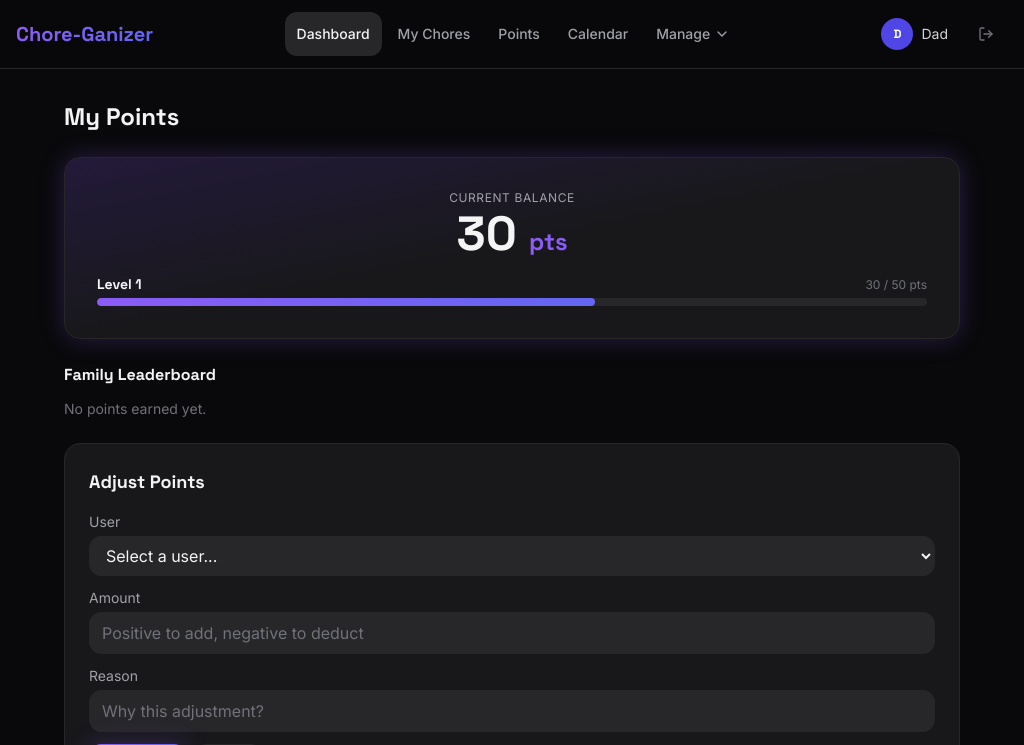
Test case: PointsPage › shows validation error on zero amount
Select "Alice (CHILD)" in the dropdown labelled "User": (512,556) left=89, top=536, right=935, bottom=576
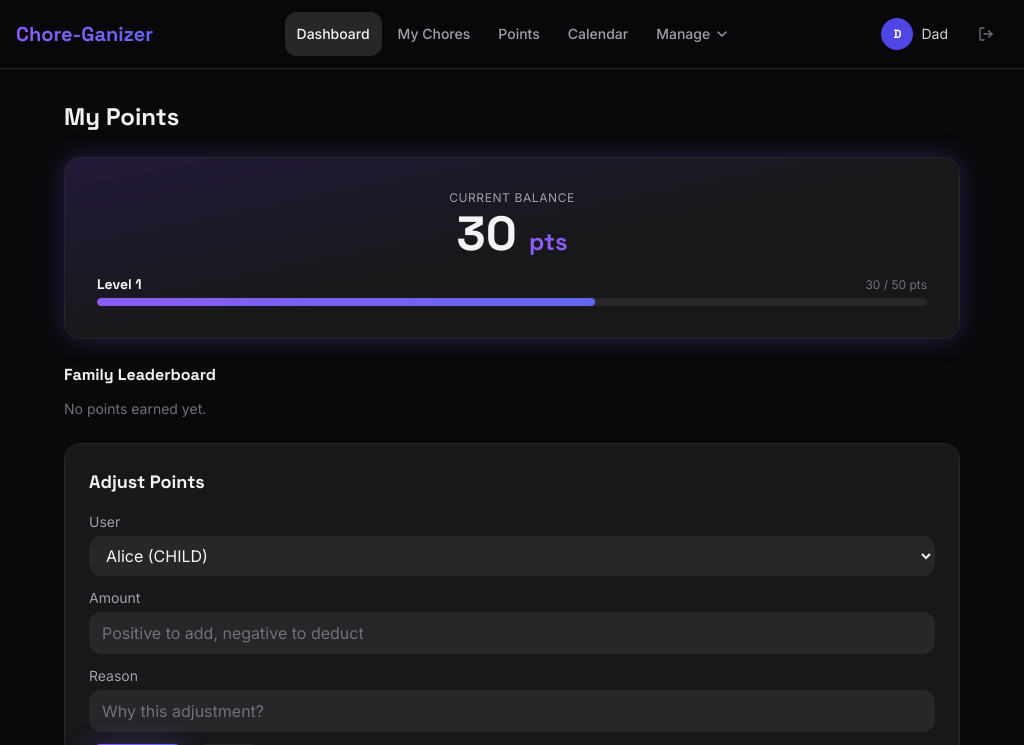
In the number field labelled "Amount": (512,633) left=89, top=612, right=935, bottom=654, type "0"
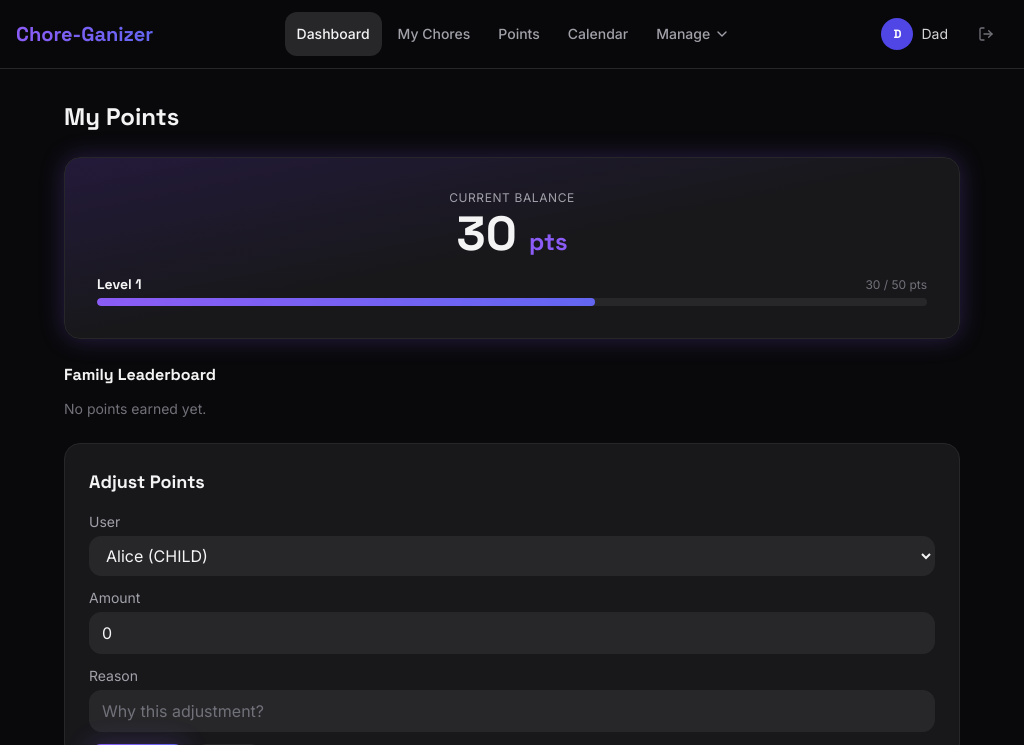
In the field labelled "Reason": (512,711) left=89, top=690, right=935, bottom=732, type "Test"
(page scrolled)
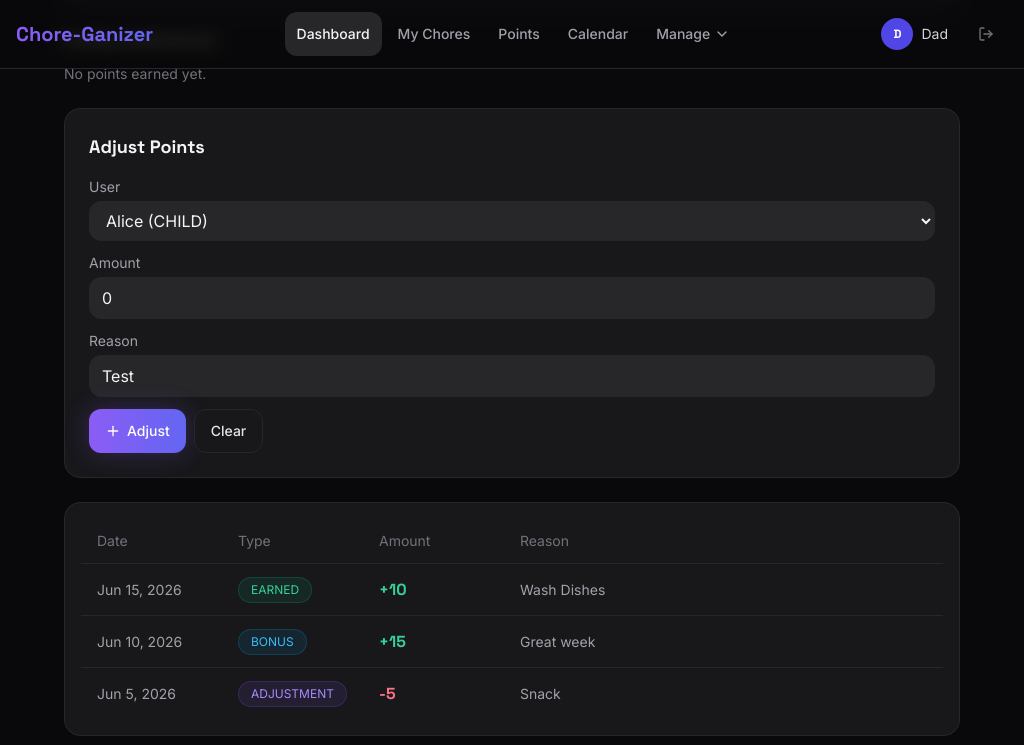
Click the button "Adjust": (137,431) left=89, top=409, right=186, bottom=453
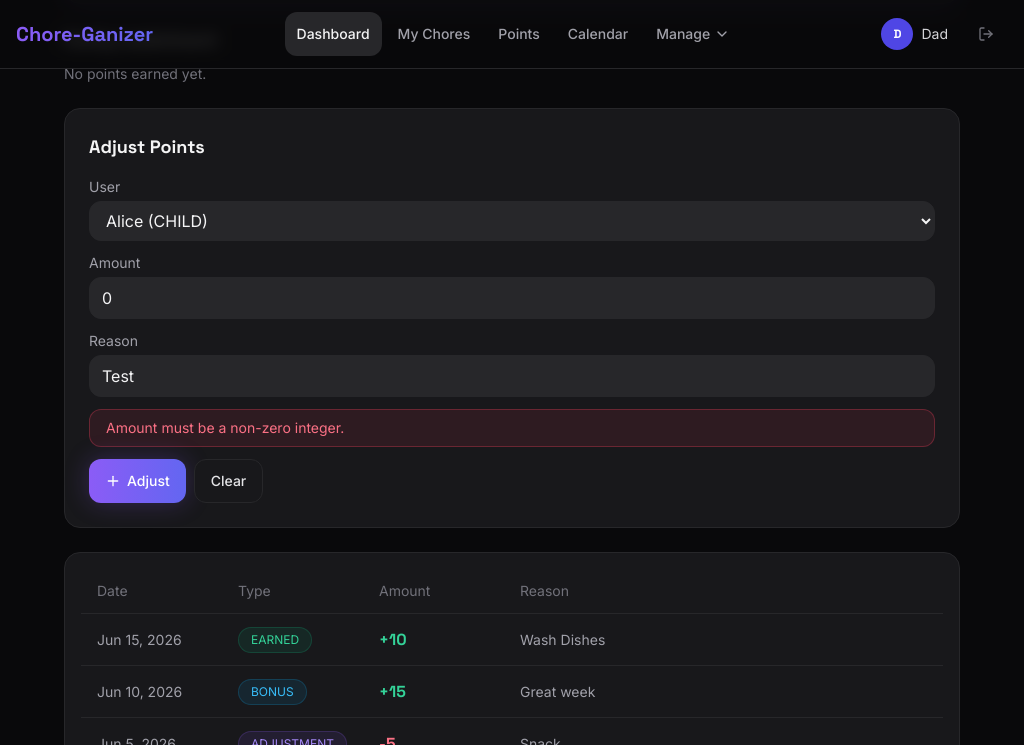
Expected: the text "Amount must be a non-zero integer." is shown, left=89, top=409, right=935, bottom=447
